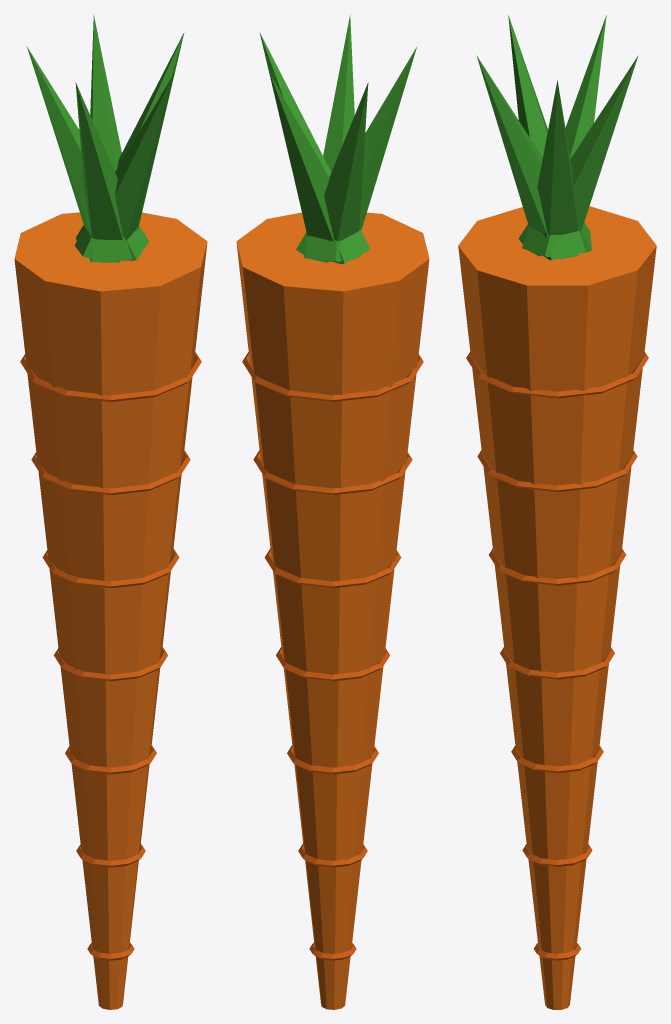
File: giant_carrot.glb
3 renders of one model, left to right at view 1: azimuth 30°, elevation 25°; view 2: azimuth 150°, elevation 25°; view 3: azimuth 270°, elevation 25°, orthographic.
Visible parts, largest first — view 1: root_carrot_orange, leaves_carrot_leaf (×5), rings_carrot_dark (×6); view 2: root_carrot_orange, leaves_carrot_leaf (×5), rings_carrot_dark (×6); view 3: root_carrot_orange, leaves_carrot_leaf (×5), rings_carrot_dark (×6).
Part boxes in pixels (<box>): root_carrot_orange: <box>14,212,207,1009</box>; leaves_carrot_leaf (×5): <box>26,14,184,262</box>; rings_carrot_dark (×6): <box>20,352,201,867</box>; root_carrot_orange: <box>236,212,429,1009</box>; leaves_carrot_leaf (×5): <box>259,14,416,264</box>; rings_carrot_dark (×6): <box>242,352,423,867</box>; root_carrot_orange: <box>458,206,656,1009</box>; leaves_carrot_leaf (×5): <box>476,15,638,260</box>; rings_carrot_dark (×6): <box>466,352,648,866</box>.
Size of the model in its own units: 0.6087 by 3.42 by 0.64.
